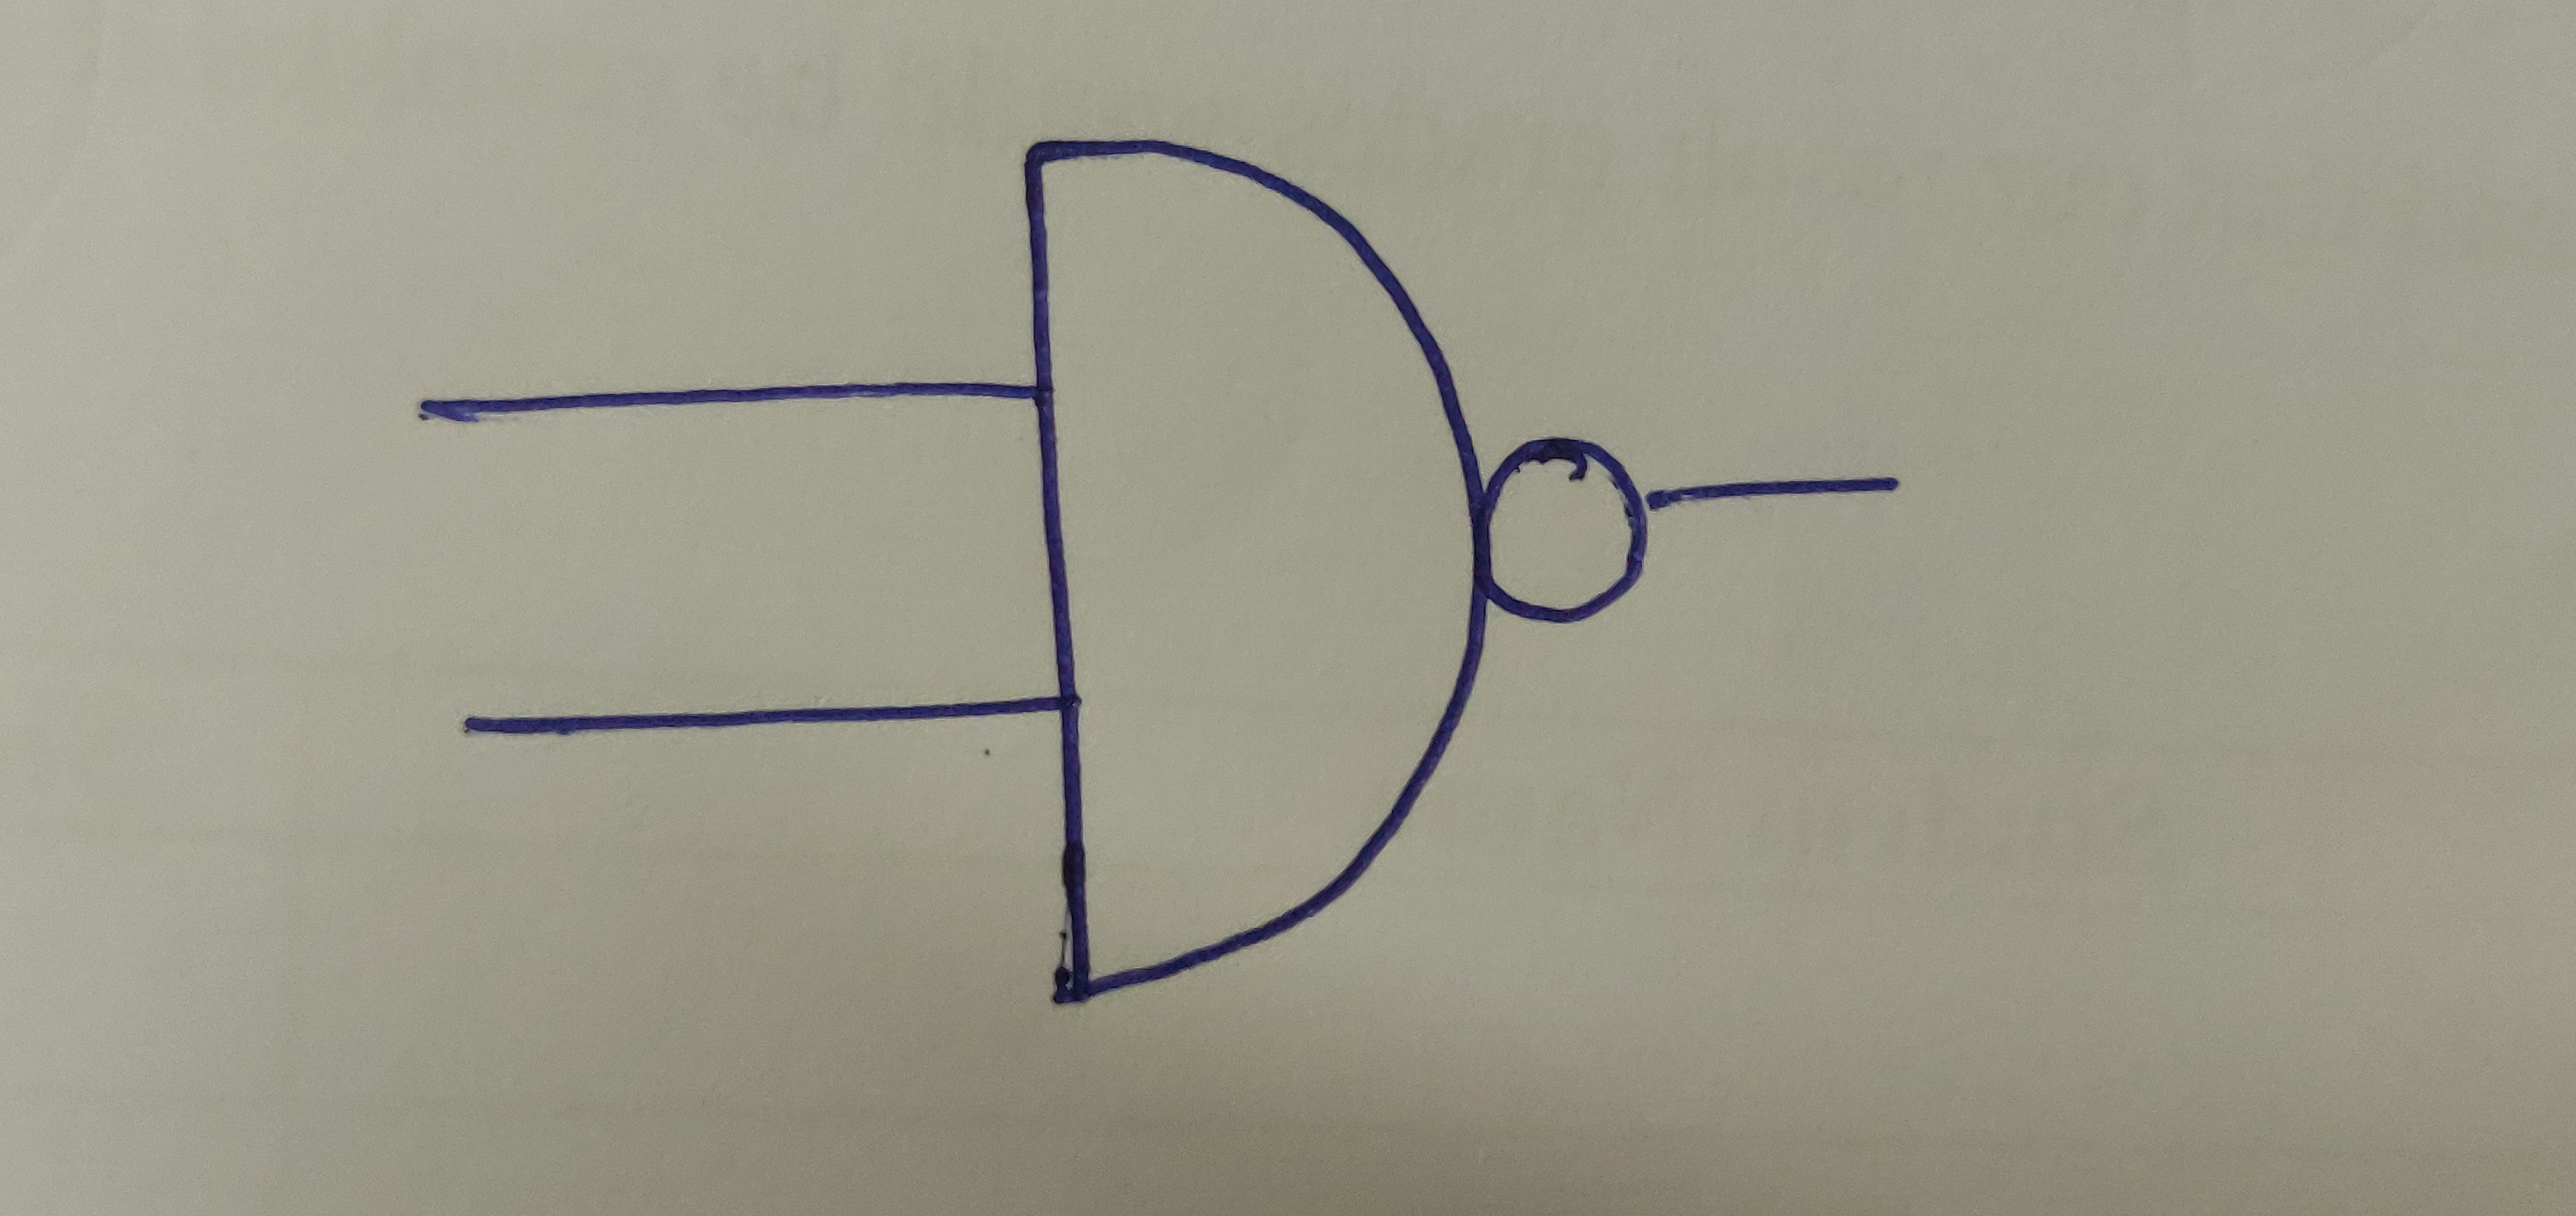and: (1022, 135, 1485, 1004)
not: (1479, 439, 1656, 628)
